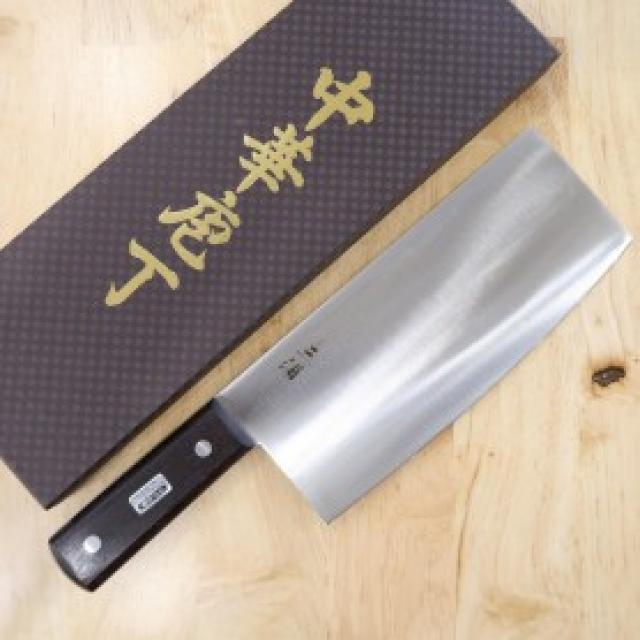cleaver: (47, 126, 634, 600)
